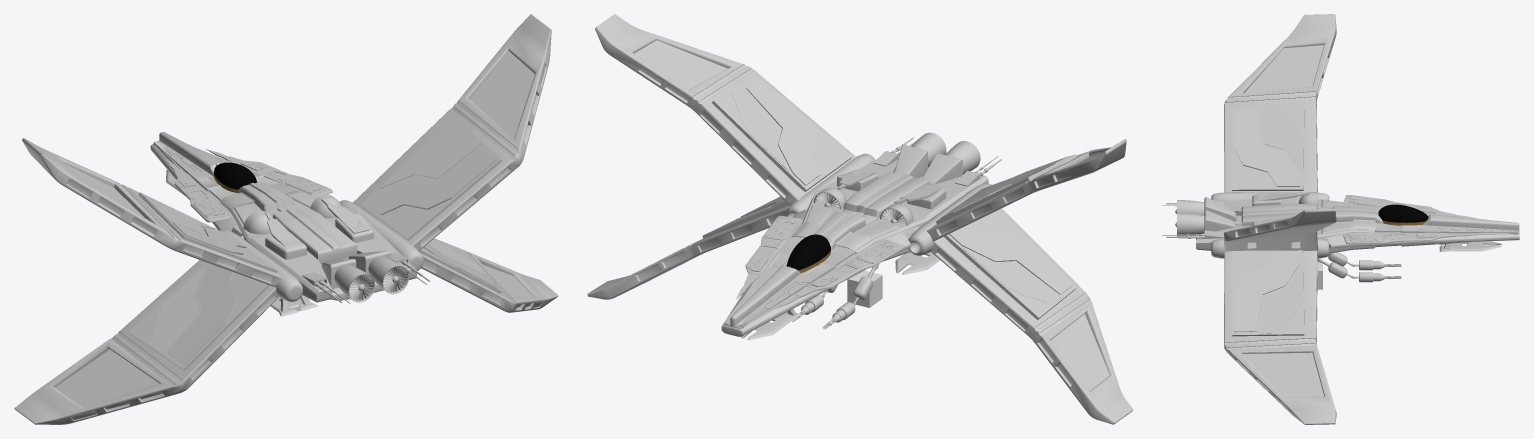
File: Spaceship_Fixed.fbx
3 renders of one model, left to right at view 1: azimuth 30°, elevation 25°; view 2: azimuth 150°, elevation 25°; view 3: azimuth 270°, elevation 25°, orthographic. The views are drawn at different scales.
Visible parts, largest first — view 1: wing.001_Baked, wing_Baked, Base_spaceship_Baked, cockpit_Baked; view 2: Base_spaceship_Baked, wing.001_Baked, wing_Baked, guns_Baked, cockpit_Baked, Cube; view 3: wing_Baked, wing.001_Baked, Base_spaceship_Baked, guns_Baked, cockpit_Baked.
Boxes of the visible parts, x1,y1,x2,y2 form: wing.001_Baked: [14, 138, 302, 424]; wing_Baked: [339, 14, 558, 312]; Base_spaceship_Baked: [150, 132, 429, 316]; cockpit_Baked: [213, 162, 257, 192]; Base_spaceship_Baked: [721, 132, 1001, 340]; wing.001_Baked: [908, 138, 1133, 424]; wing_Baked: [587, 14, 875, 299]; guns_Baked: [792, 264, 878, 329]; cockpit_Baked: [786, 234, 830, 273]; Cube: [847, 270, 882, 307]; wing_Baked: [1211, 208, 1336, 424]; wing.001_Baked: [1211, 14, 1336, 201]; Base_spaceship_Baked: [1162, 192, 1519, 253]; guns_Baked: [1318, 252, 1401, 282]; cockpit_Baked: [1378, 204, 1428, 225].
Bounding box in the file's own units: 4689 × 2321 × 3510.
